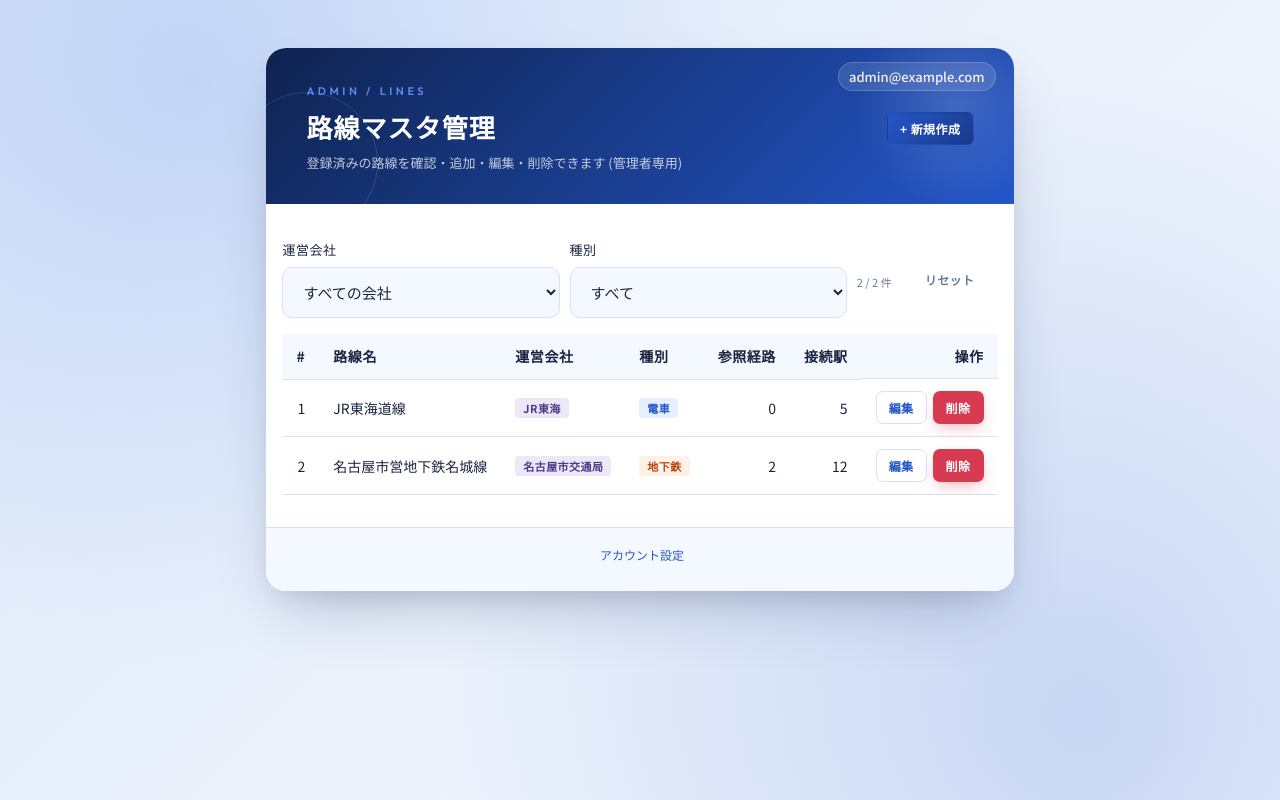
it: AdminLines › US-034 / US-050 フィルタ持続化 (sessionStorage) › US-050: 運営会社フィルタを選ぶと該当 operator の路線のみ一覧に残る
Expected: the text "JR東海道線" is shown, [319,379,501,436]
Select "JR東海" in the dropdown labelled "運営会社" at x=421, y=292, box [282,267,560,318]
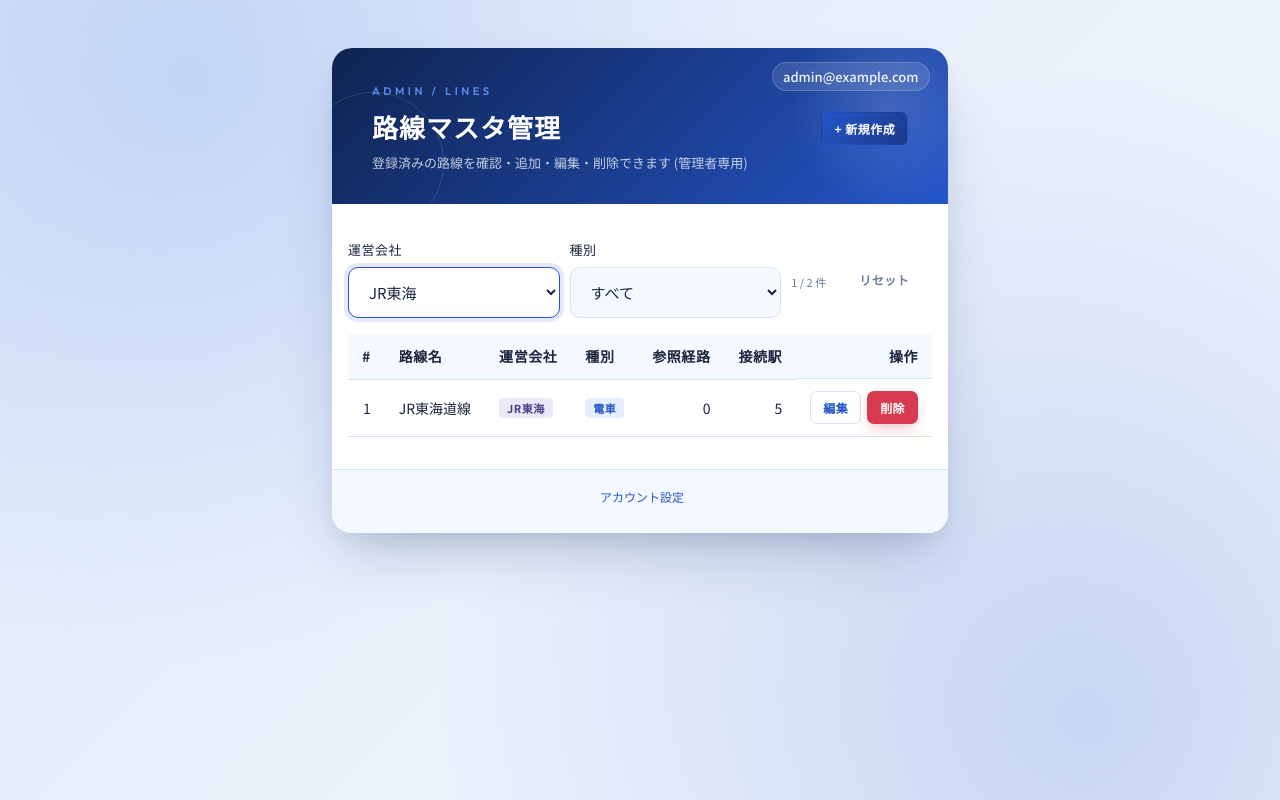
Expected: the text "JR東海道線" is shown, [385,379,485,436]
Expected: the text "名古屋市営地下鉄名城線" is gone
